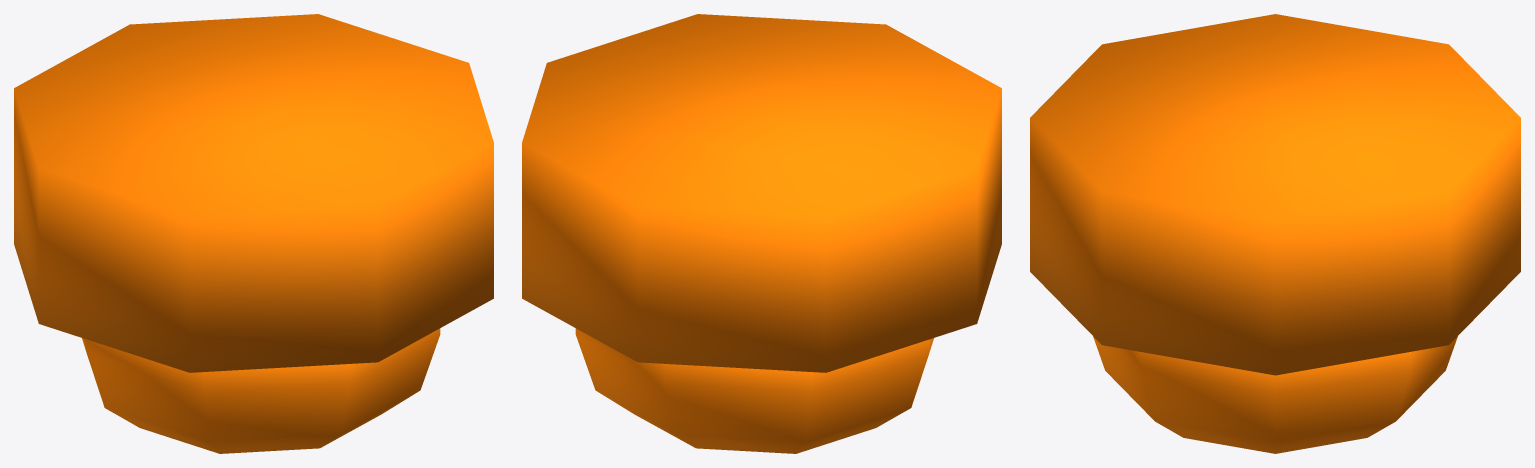
File: bronze_pommel_173.glb
The picture shows the model from 3 angles, left to right: view 1: azimuth 30°, elevation 25°; view 2: azimuth 150°, elevation 25°; view 3: azimuth 270°, elevation 25°; orthographic projection.
Visible parts, largest first — view 1: bronze_pommel_173; view 2: bronze_pommel_173; view 3: bronze_pommel_173.
Boxes of the visible parts, x1=… form: bronze_pommel_173: x1=14, y1=14, x2=493, y2=453; bronze_pommel_173: x1=522, y1=14, x2=1001, y2=453; bronze_pommel_173: x1=1030, y1=14, x2=1520, y2=453.
Bounding box in the file's own units: 1.78 × 1.18 × 1.78.
1 material, 1 textured.
